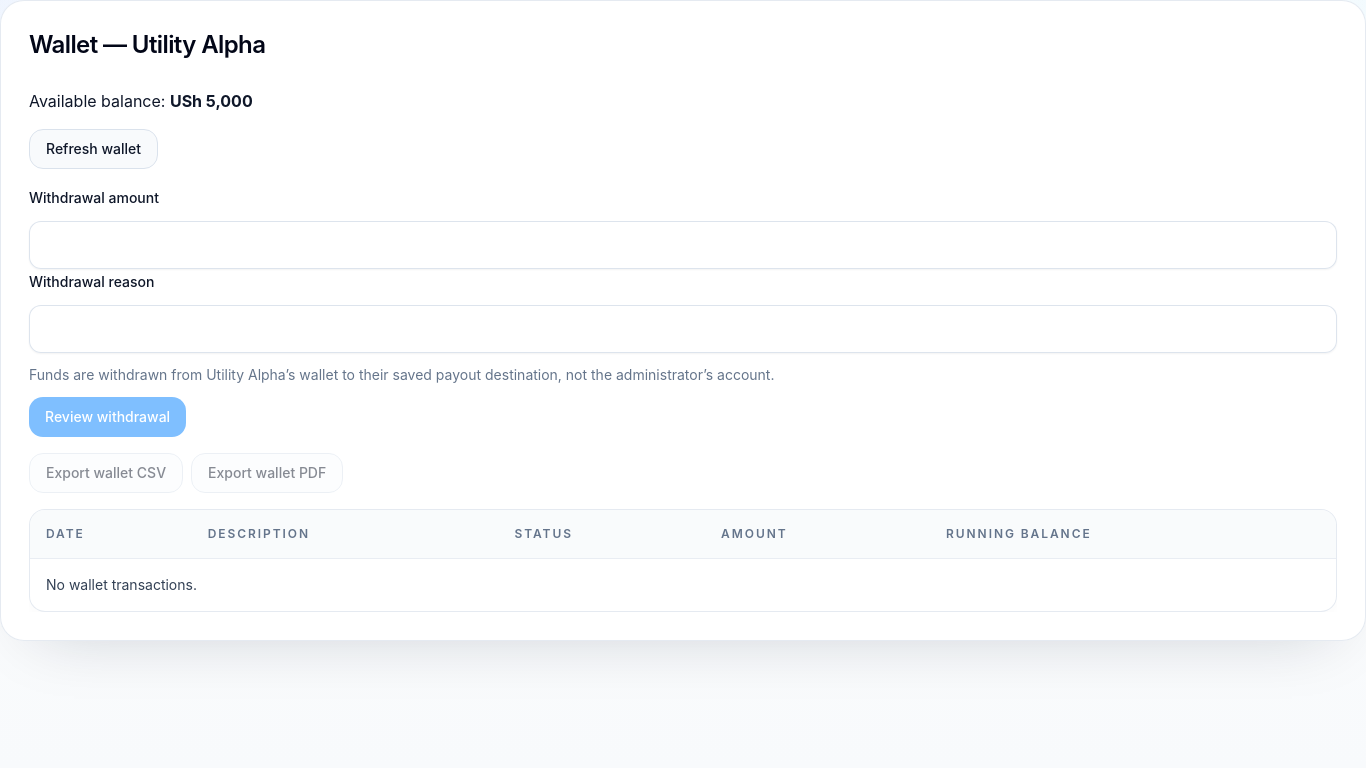
Test case: blocks invalid or unaffordable amount 0
Type "1000" into the number field labelled "Withdrawal amount" at (683, 245), box x1=29 y1=221 x2=1337 y2=269
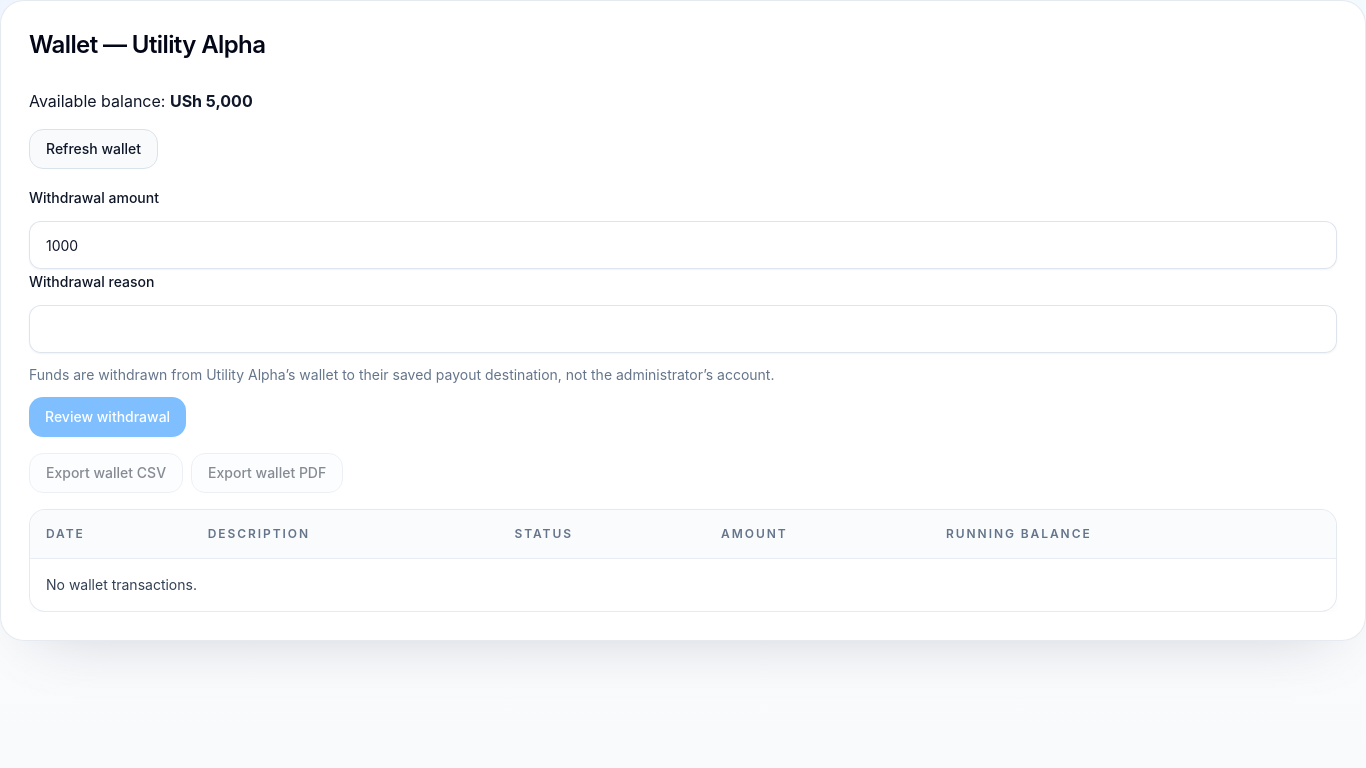
Type " Meter repair " into the field labelled "Withdrawal reason" at (683, 329), box x1=29 y1=305 x2=1337 y2=353
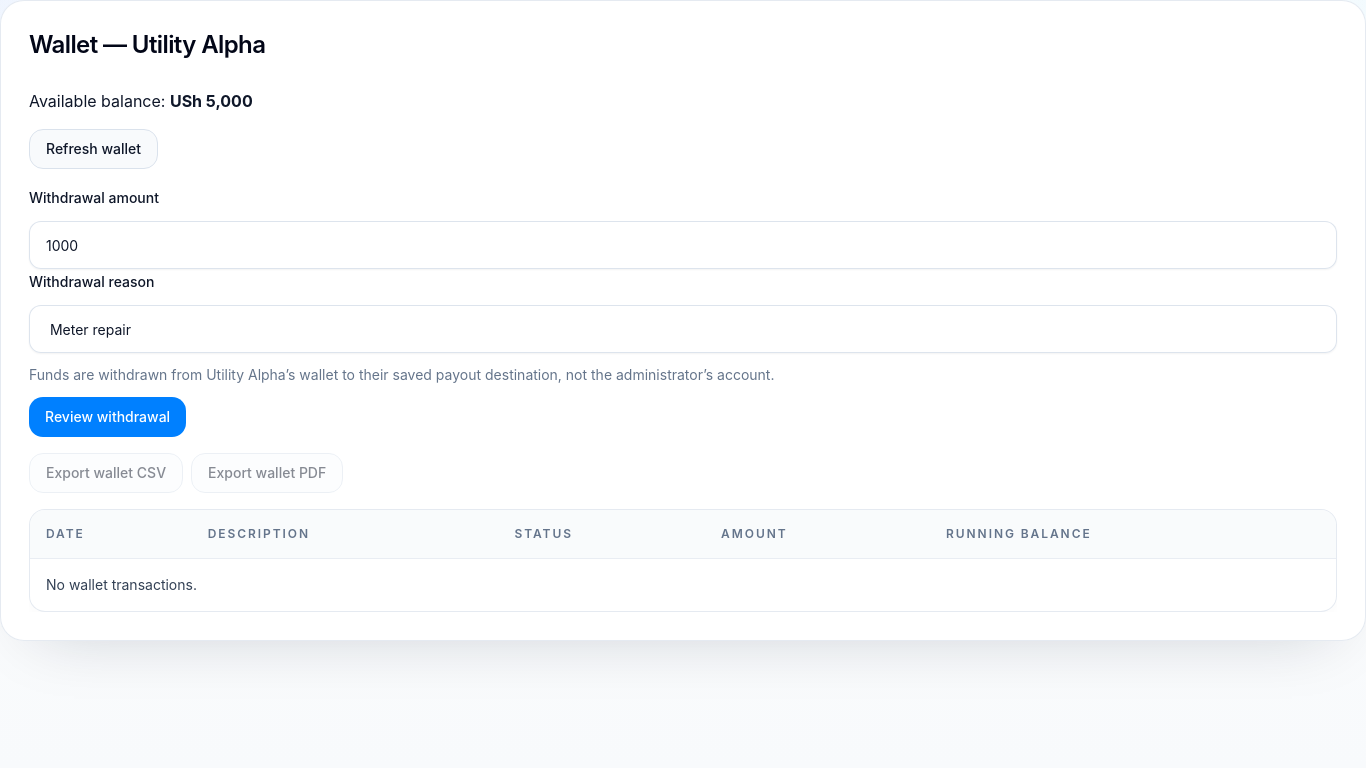
Replace the text in the number field labelled "Withdrawal amount" with "0" at (683, 245), box x1=29 y1=221 x2=1337 y2=269
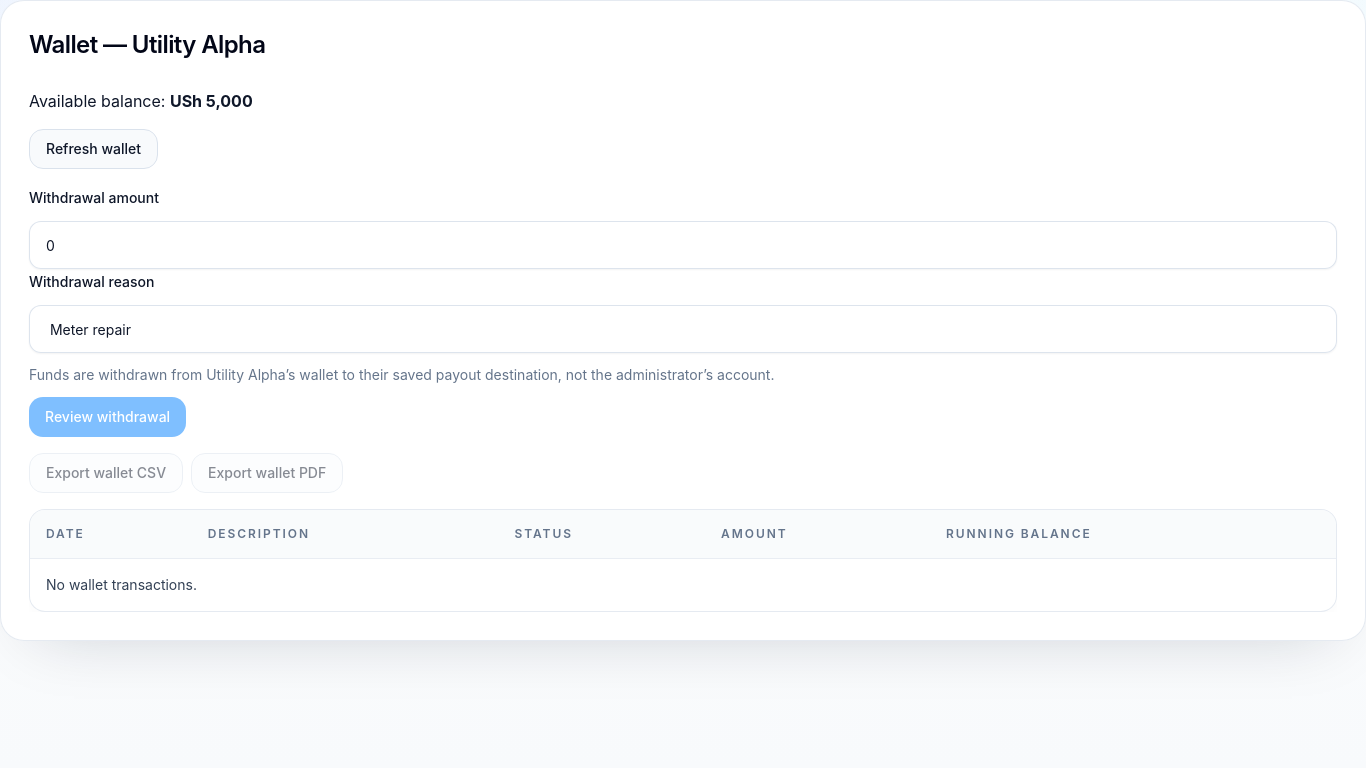
expect the button "Review withdrawal" is disabled: met, box x1=29 y1=397 x2=186 y2=437
